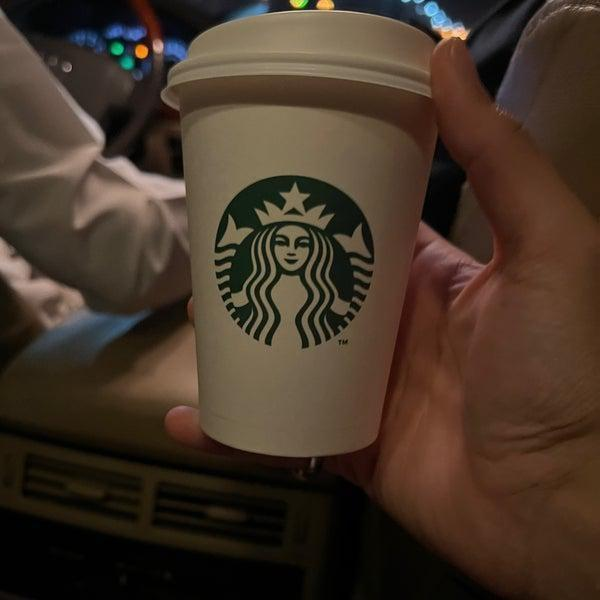cup-disposable: (159, 5, 449, 459)
